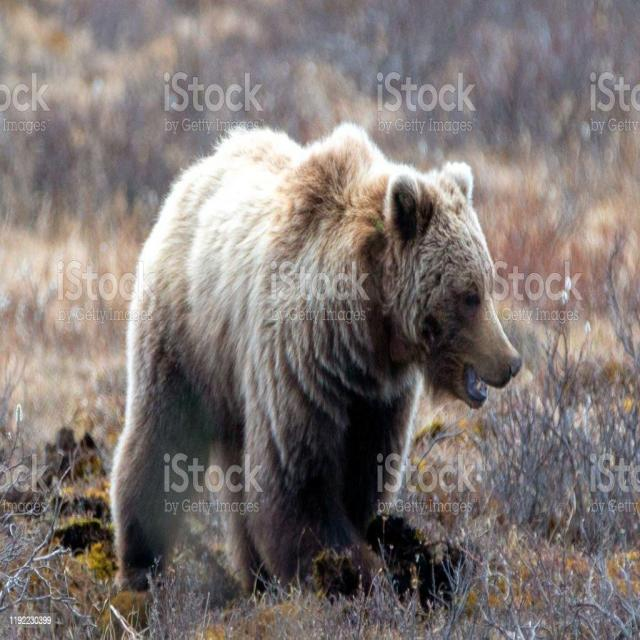Bear: (109, 124, 523, 596)
